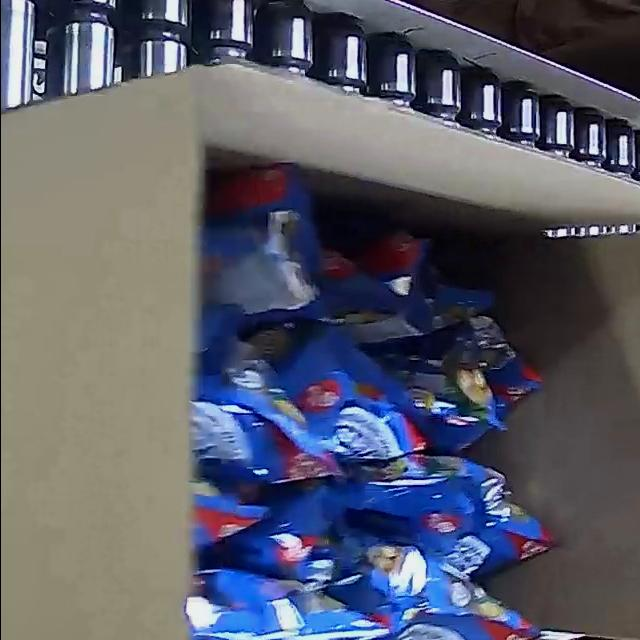paprika: (187, 162, 557, 640)
